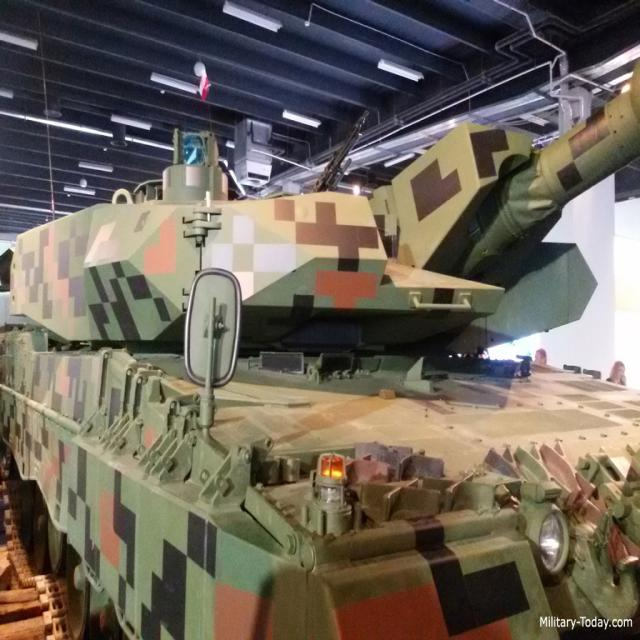Tank: (43, 122, 640, 640)
